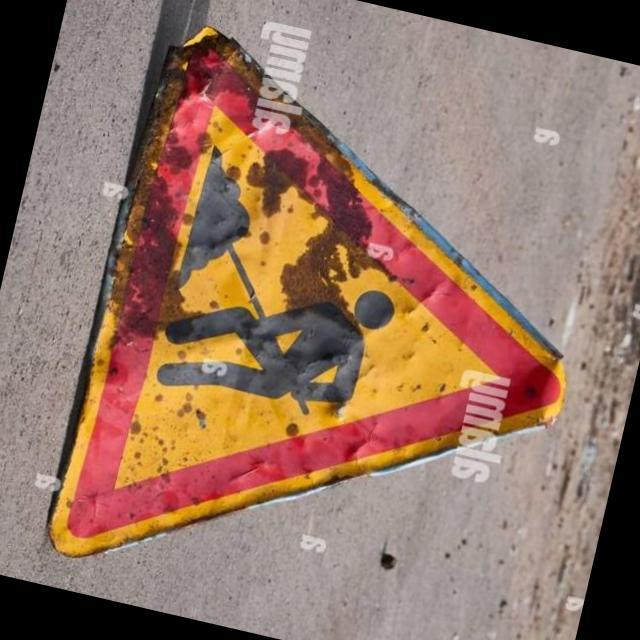obstructed_road_sign: (47, 29, 564, 571)
